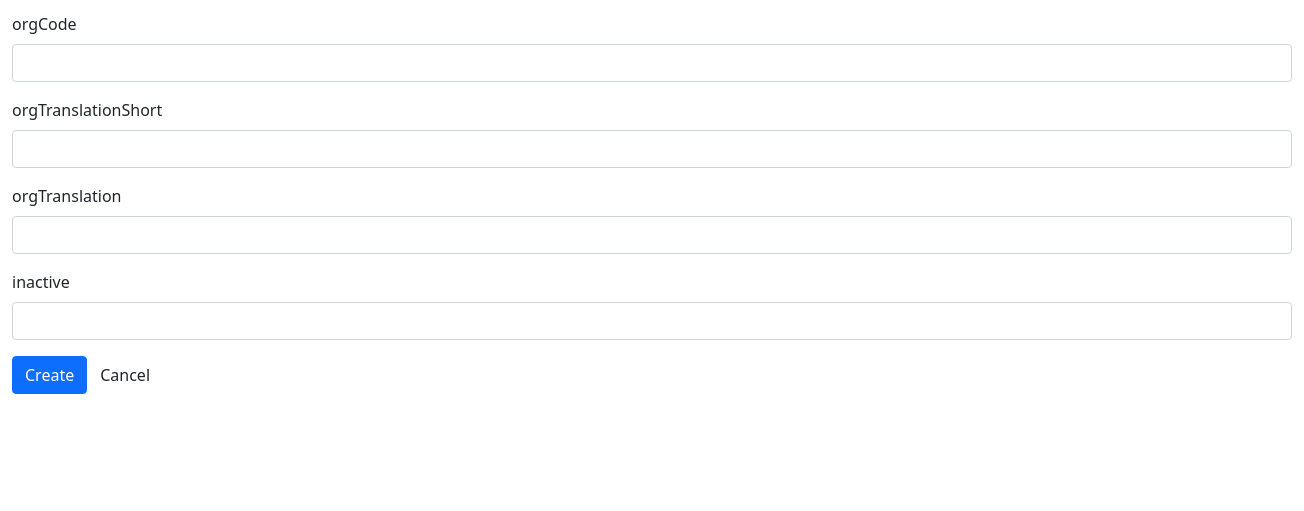
it: UCSBOrganizationForm tests › Correct Error messsages on missing input
The image size is (1304, 511).
Click the button with test id "UCSBOrganizationForm-submit". click: (50, 375)
box: [12,356,87,394]
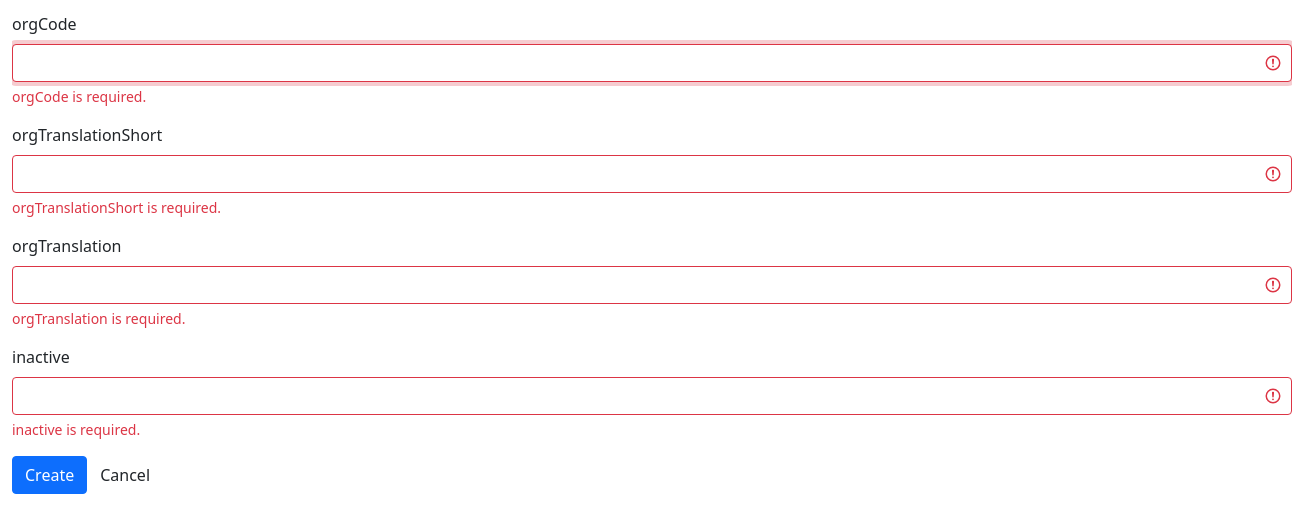
Expected: the text "orgCode is required." is shown, [12,87,146,106]
Expected: the text "orgTranslationShort is required." is shown, [12,198,221,217]
Expected: the text "orgTranslation is required." is shown, [12,309,185,328]
